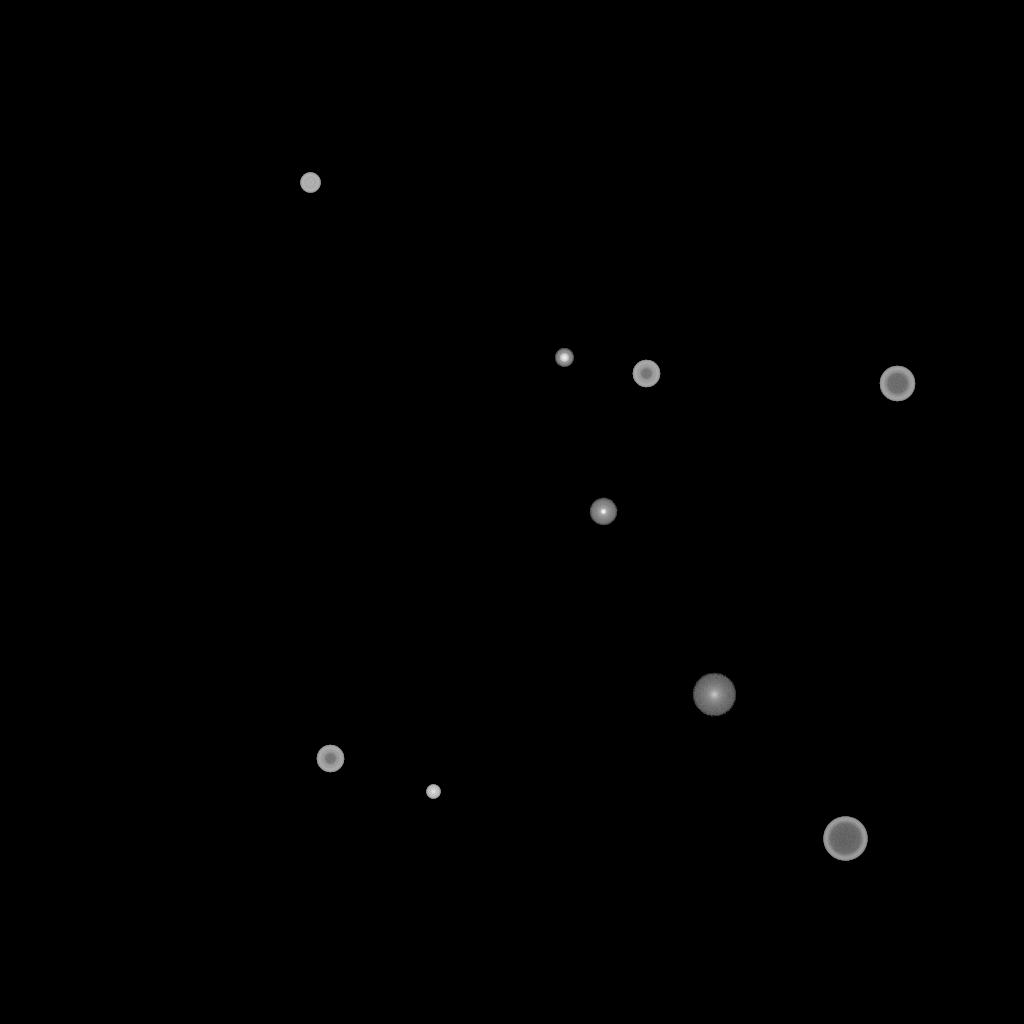depth:-10: (589, 498, 617, 526)
depth:-20: (555, 349, 573, 367)
depth:-30: (426, 785, 440, 799)
depth:-40: (300, 173, 320, 193)
depth:-50: (316, 745, 344, 773), (632, 360, 660, 388)
depth:-60: (879, 366, 915, 402)
depth:-70: (823, 817, 867, 861)
depth:10: (692, 673, 736, 717)
